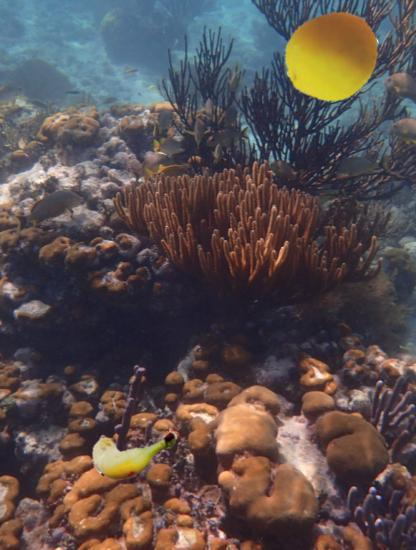Banana: (92, 408, 172, 488)
Peach: (284, 9, 382, 107)
